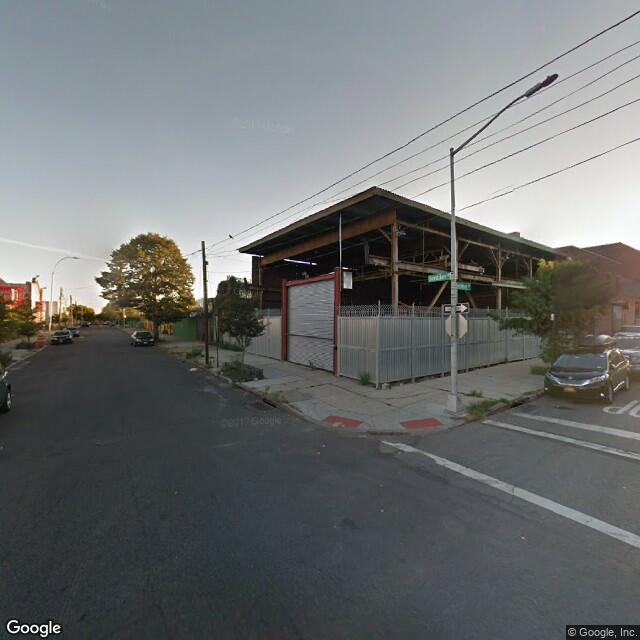litter: (184, 358, 204, 377)
